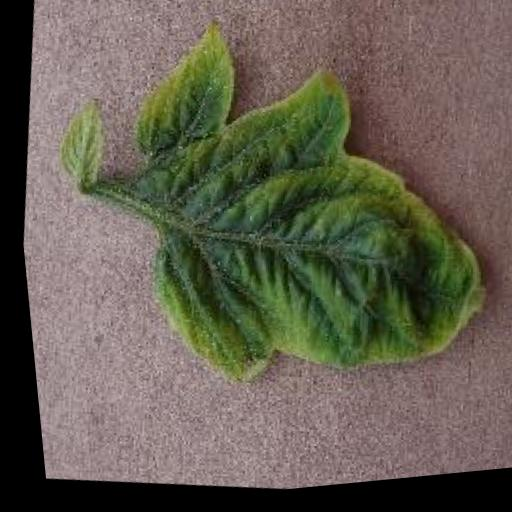Yellow Leaf Curl Virus: (94, 1, 512, 425)
